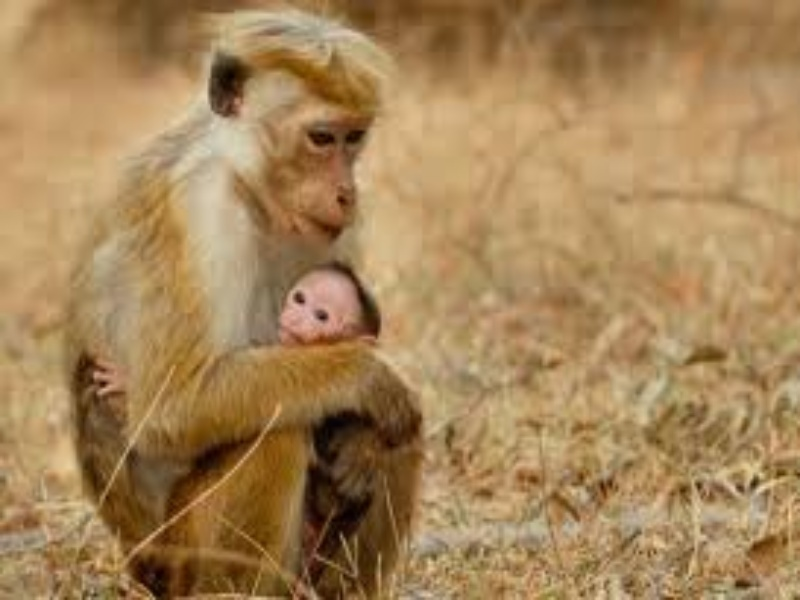monkey: (62, 18, 429, 586)
